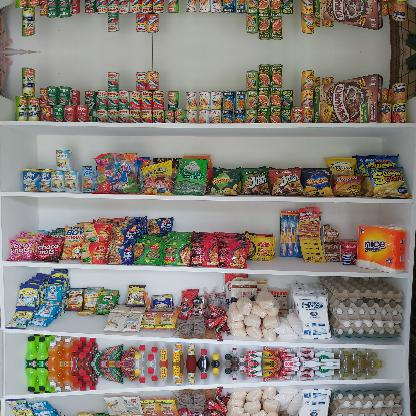Koko-Krunch: (314, 74, 382, 122), (313, 0, 383, 31)
